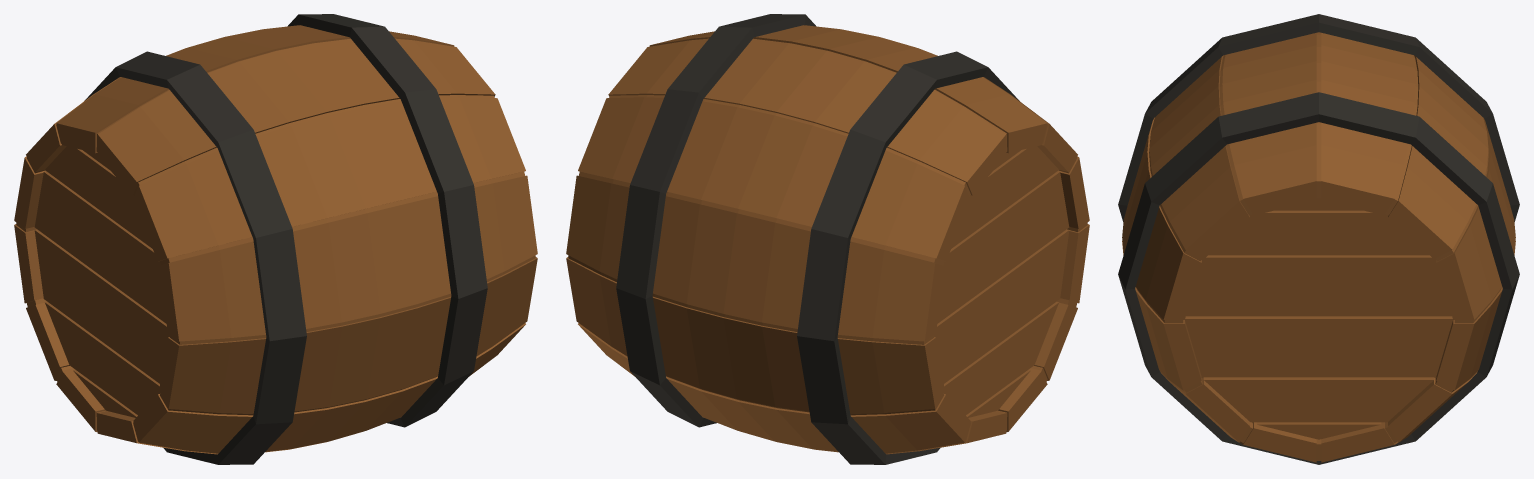
The model's file is タル横.fbx.
3 renders of one model, left to right at view 1: azimuth 30°, elevation 25°; view 2: azimuth 150°, elevation 25°; view 3: azimuth 270°, elevation 25°, orthographic. The views are drawn at different scales.
Visible parts, largest first — view 1: Cylinder, Cylinder.001, Cylinder.002; view 2: Cylinder, Cylinder.001, Cylinder.002; view 3: Cylinder, Cylinder.002, Cylinder.001.
Part boxes in pixels (box(x1,y1,x2,y2)): Cylinder: box(14, 25, 537, 454); Cylinder.001: box(84, 14, 487, 464); Cylinder.002: box(34, 146, 169, 417); Cylinder: box(566, 25, 1089, 454); Cylinder.001: box(616, 14, 1019, 464); Cylinder.002: box(934, 146, 1069, 417); Cylinder: box(1122, 32, 1515, 462); Cylinder.002: box(1185, 198, 1452, 439); Cylinder.001: box(1118, 14, 1519, 464).
Size of the model in its own units: 250 by 258 by 258.
